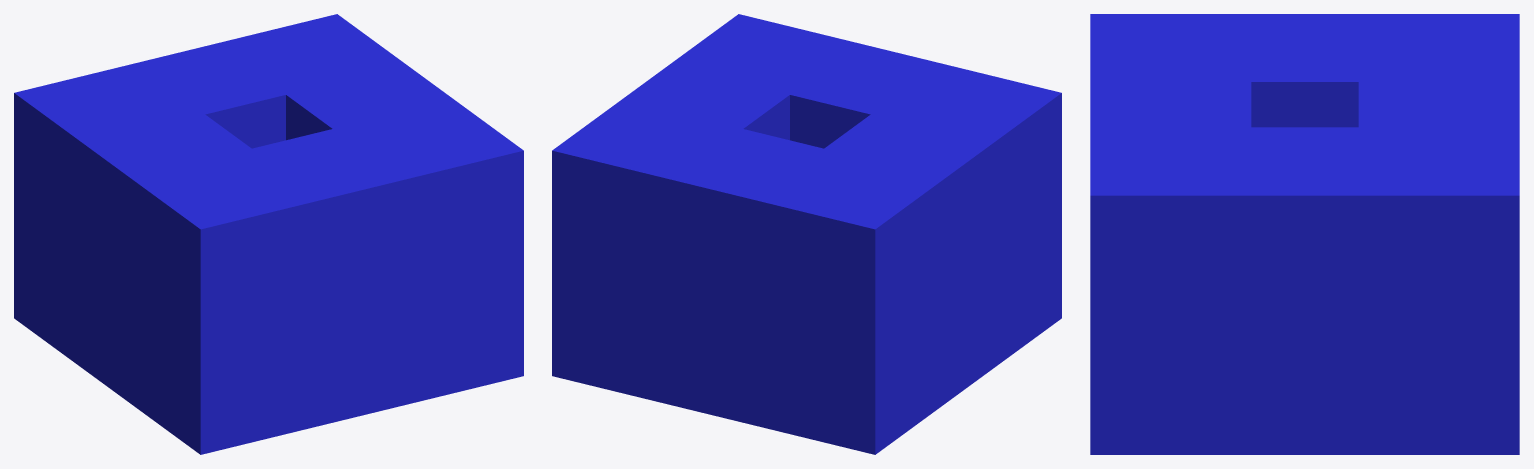
File: Brick.fbx
3 views of the same model, side by side, from view 1: azimuth 30°, elevation 25°; view 2: azimuth 150°, elevation 25°; view 3: azimuth 270°, elevation 25° (orthographic). The views are drawn at different scales.
Visible parts, largest first — view 1: Cube; view 2: Cube; view 3: Cube.
Boxes of the visible parts, x1,y1,x2,y2 form: Cube: (14, 14, 523, 454); Cube: (552, 14, 1061, 454); Cube: (1090, 14, 1519, 454).
Bounding box in the file's own units: 66.67 × 100 × 100.
